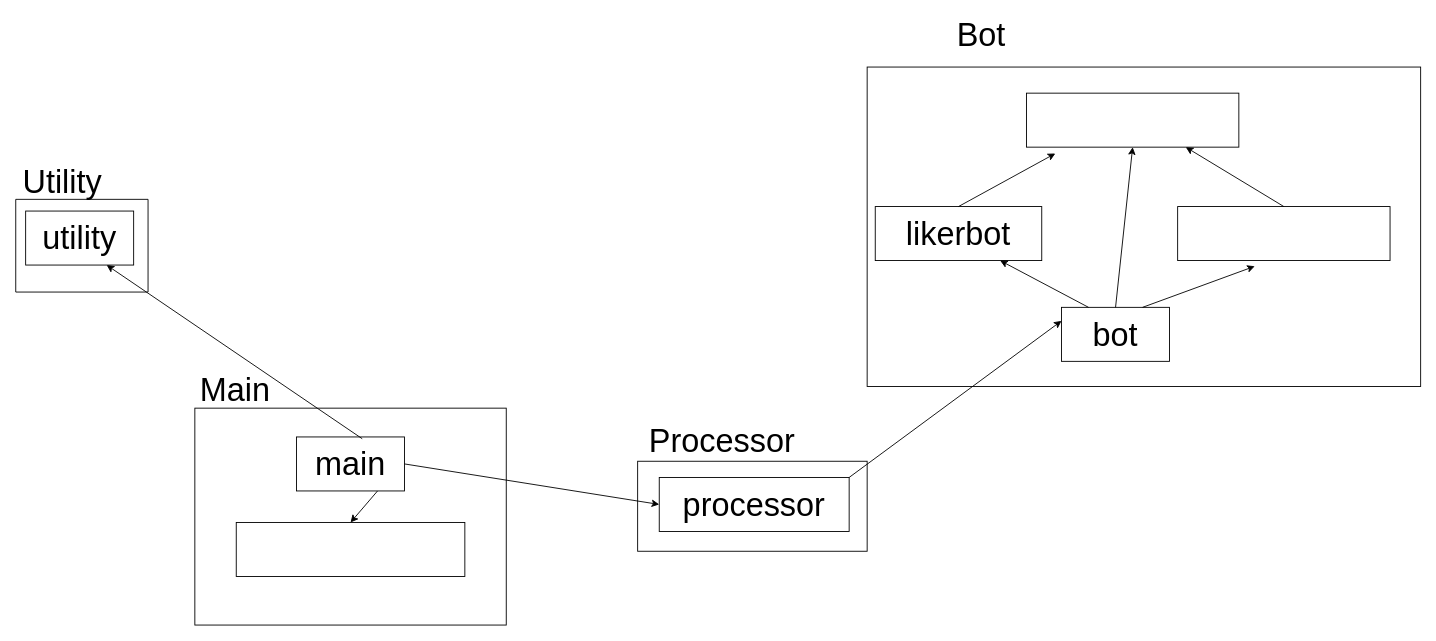
The diagram is 1436 pixels wide and 641 high, and some of its shapes have lost their labels. The shapes that lost their labels are listed below. From the top down, each one's box as (x1, y1, x2, y2) in pixels, then its label:
(1026, 92, 1239, 147): simplebot
(1177, 206, 1390, 261): watcherbot
(235, 522, 465, 576): preferences
